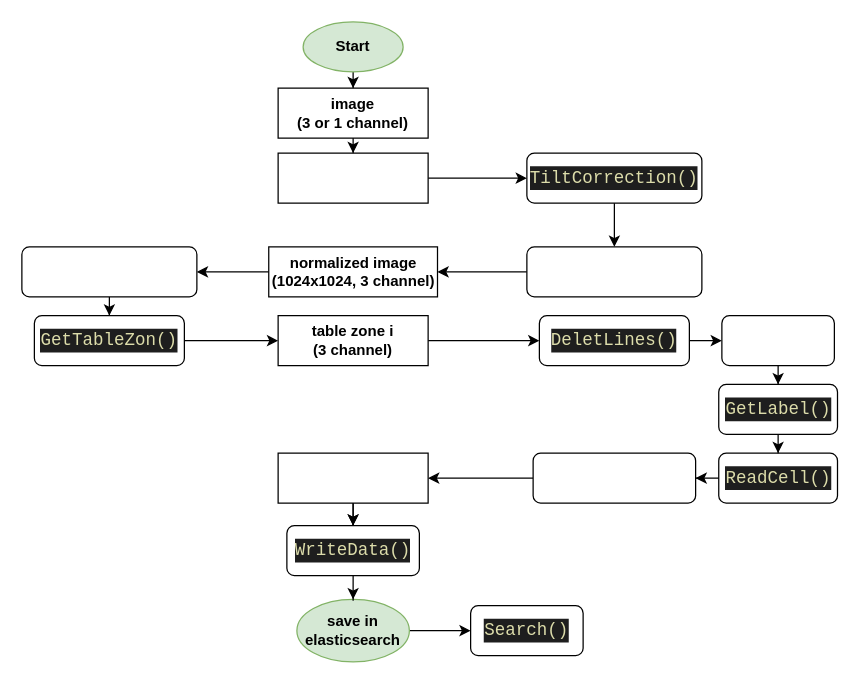
Some shapes in this 860 by 684 pixel diagram are drawn without their labels. The shapes that lost their labels are listed below. From the top down, each one's centre as x and y in pixels, then its label:
the point at 352,177: image (1 channel)
the point at 109,271: PositionTable()
the point at 614,271: SizeNormalize()
the point at 777,340: GetCell()
the point at 352,477: Dataframe of the datas in table zone i
the point at 614,477: GetDataframe()
